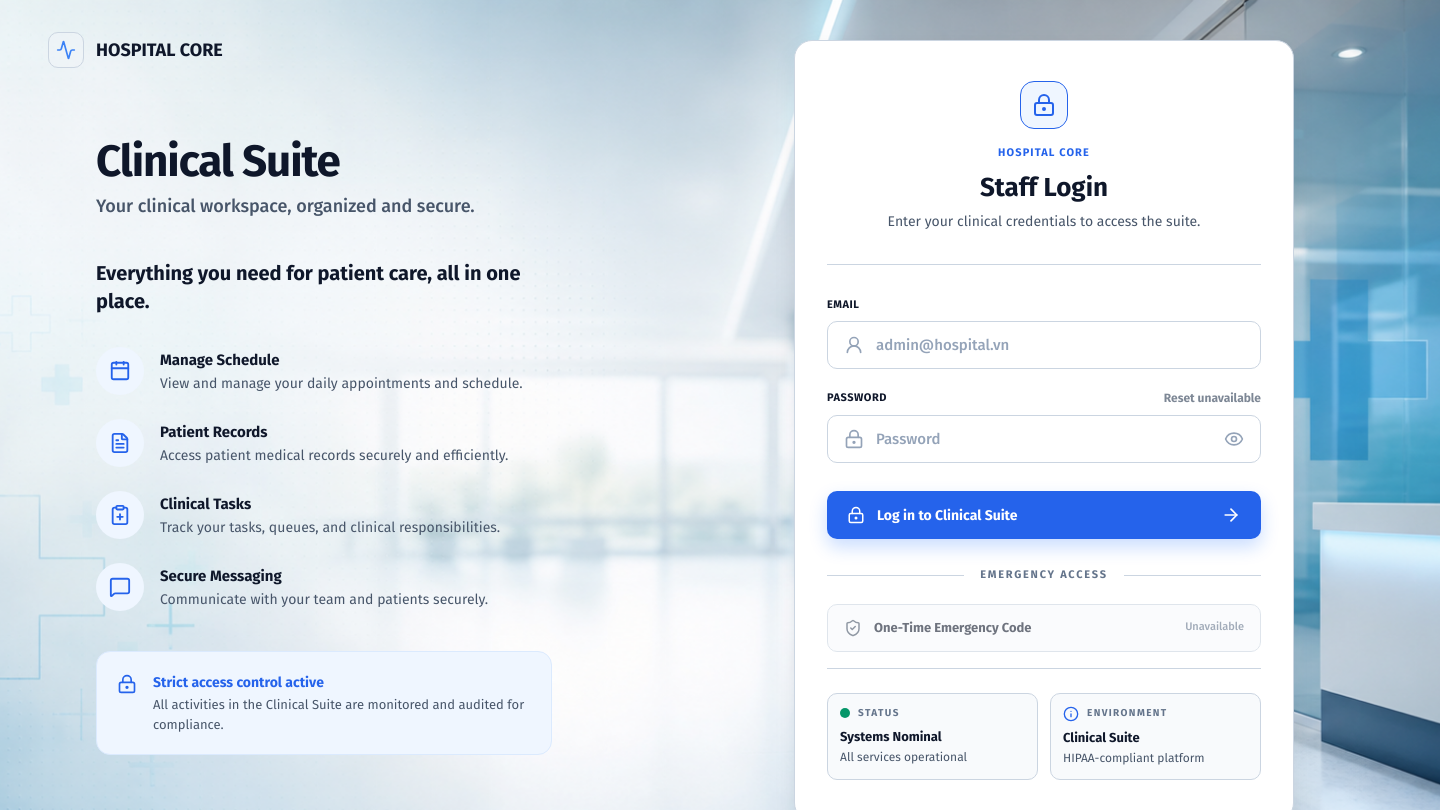
Test case: StaffLoginPage › shows the backend error and does not navigate when login fails
In the field labelled "Email": (1060, 345) [876,322,1244,368], type "frontdesk@hospital.vn"
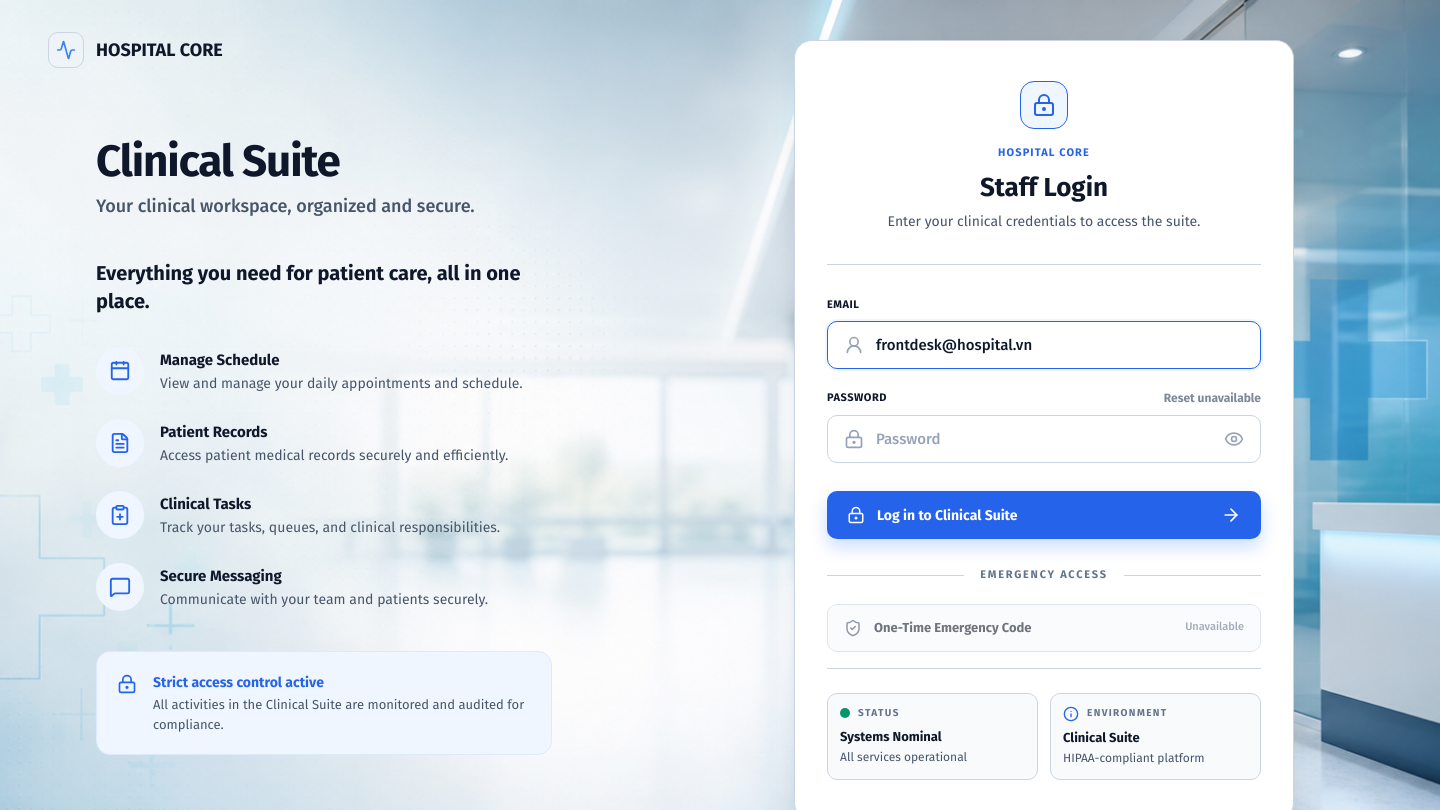
In the password field labelled "Password": (1044, 439) [876,416,1212,462], type "bad-password"
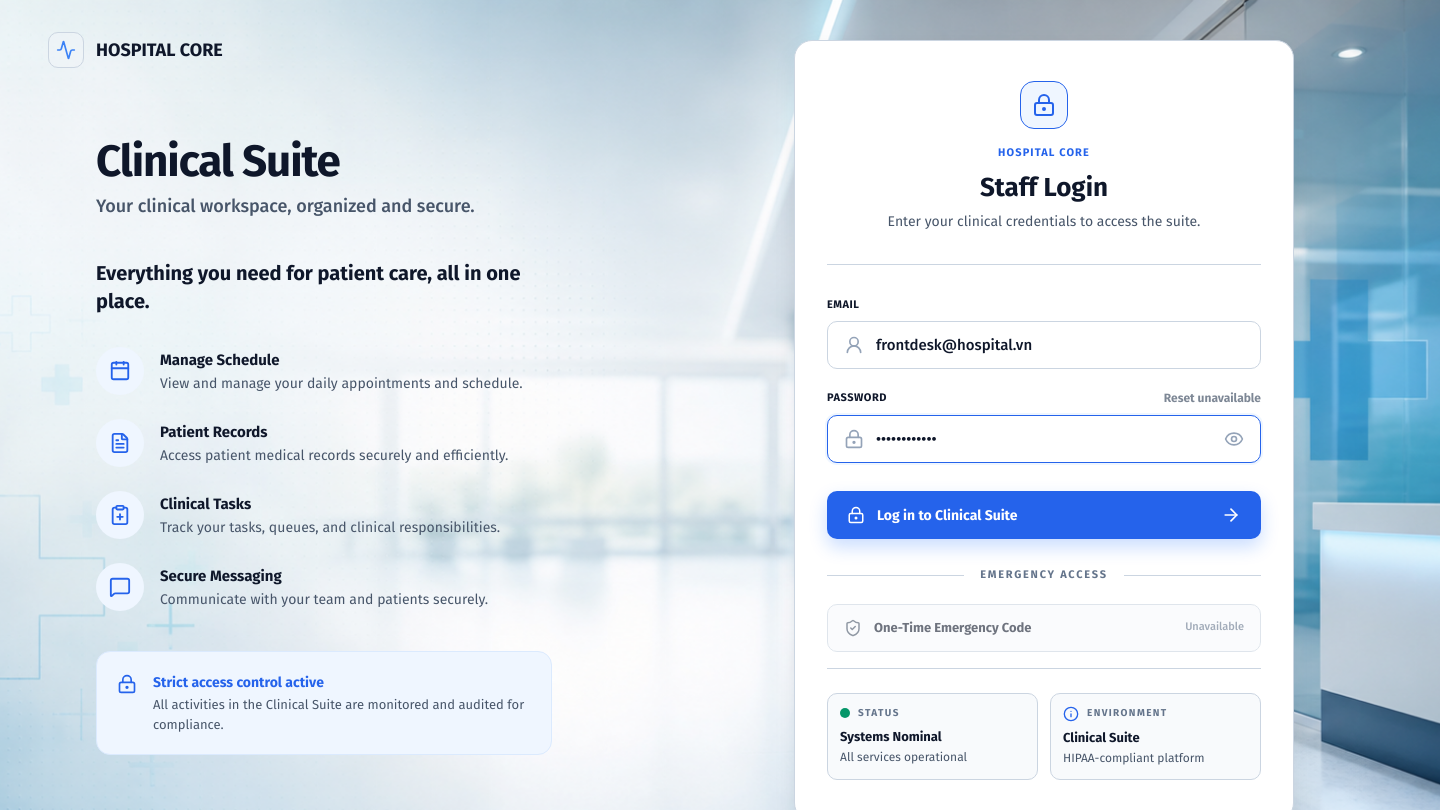
Click the button "Log in to Clinical Suite": click(947, 515) [827,491,1261,539]
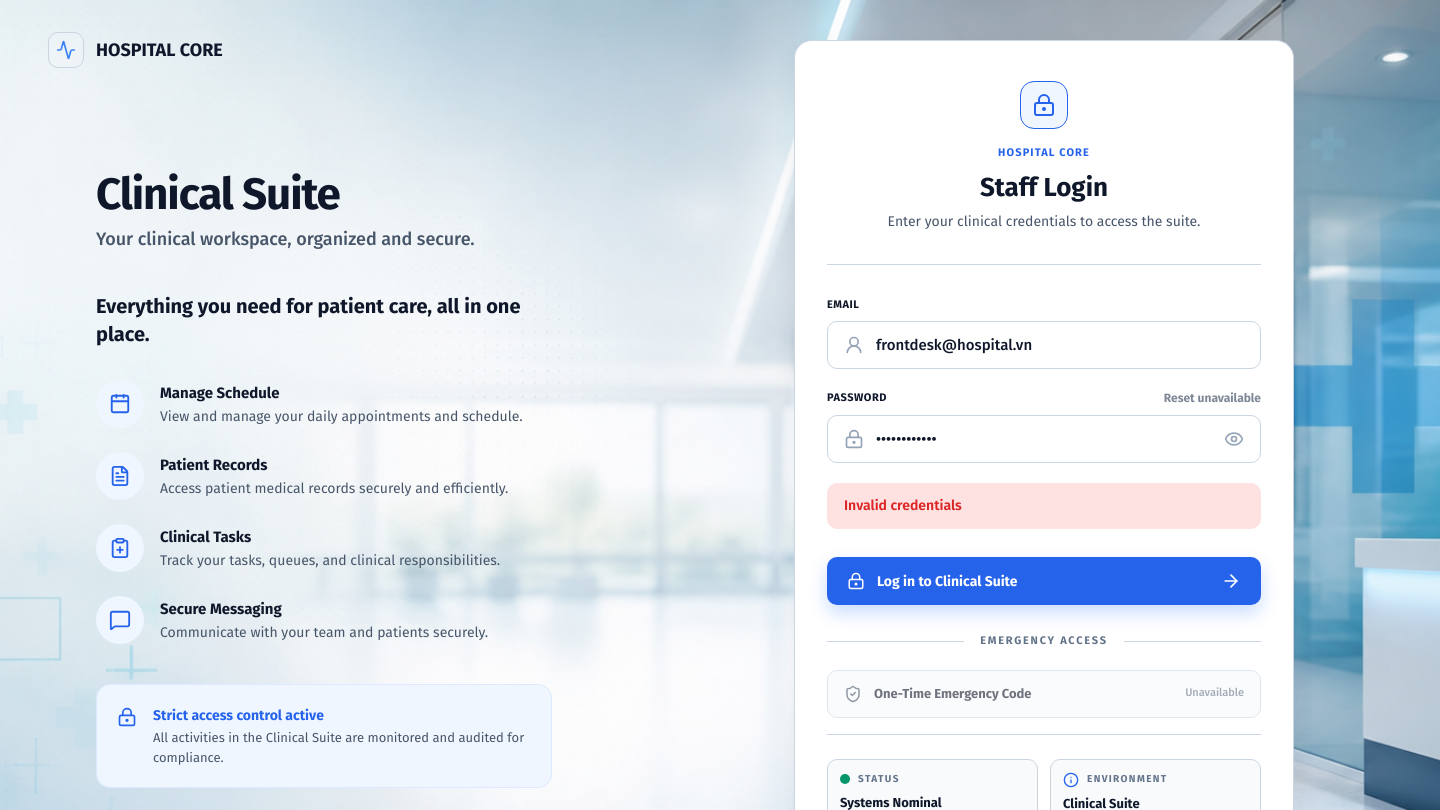
Now the message reads "Invalid credentials", box [844,497,962,514]
